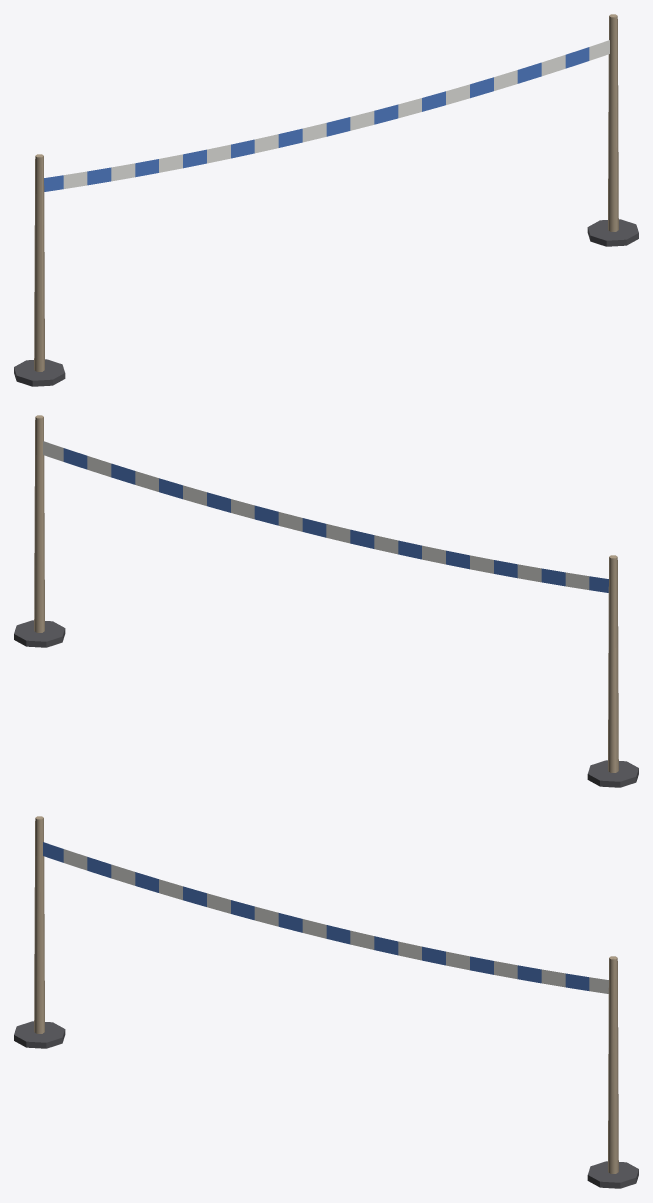
The model's file is police_tape_strip_a.glb.
The picture shows the model from 3 angles, top to bottom: view 1: azimuth 30°, elevation 25°; view 2: azimuth 150°, elevation 25°; view 3: azimuth 330°, elevation 25°; orthographic projection.
Visible parts, largest first — view 1: body; view 2: body; view 3: body.
Part boxes in pixels (bbox=[...]): body: bbox=[14, 14, 638, 386]; body: bbox=[14, 415, 638, 787]; body: bbox=[14, 816, 638, 1188].
Bounding box in the file's own units: 3.24 × 1.1 × 0.24.
